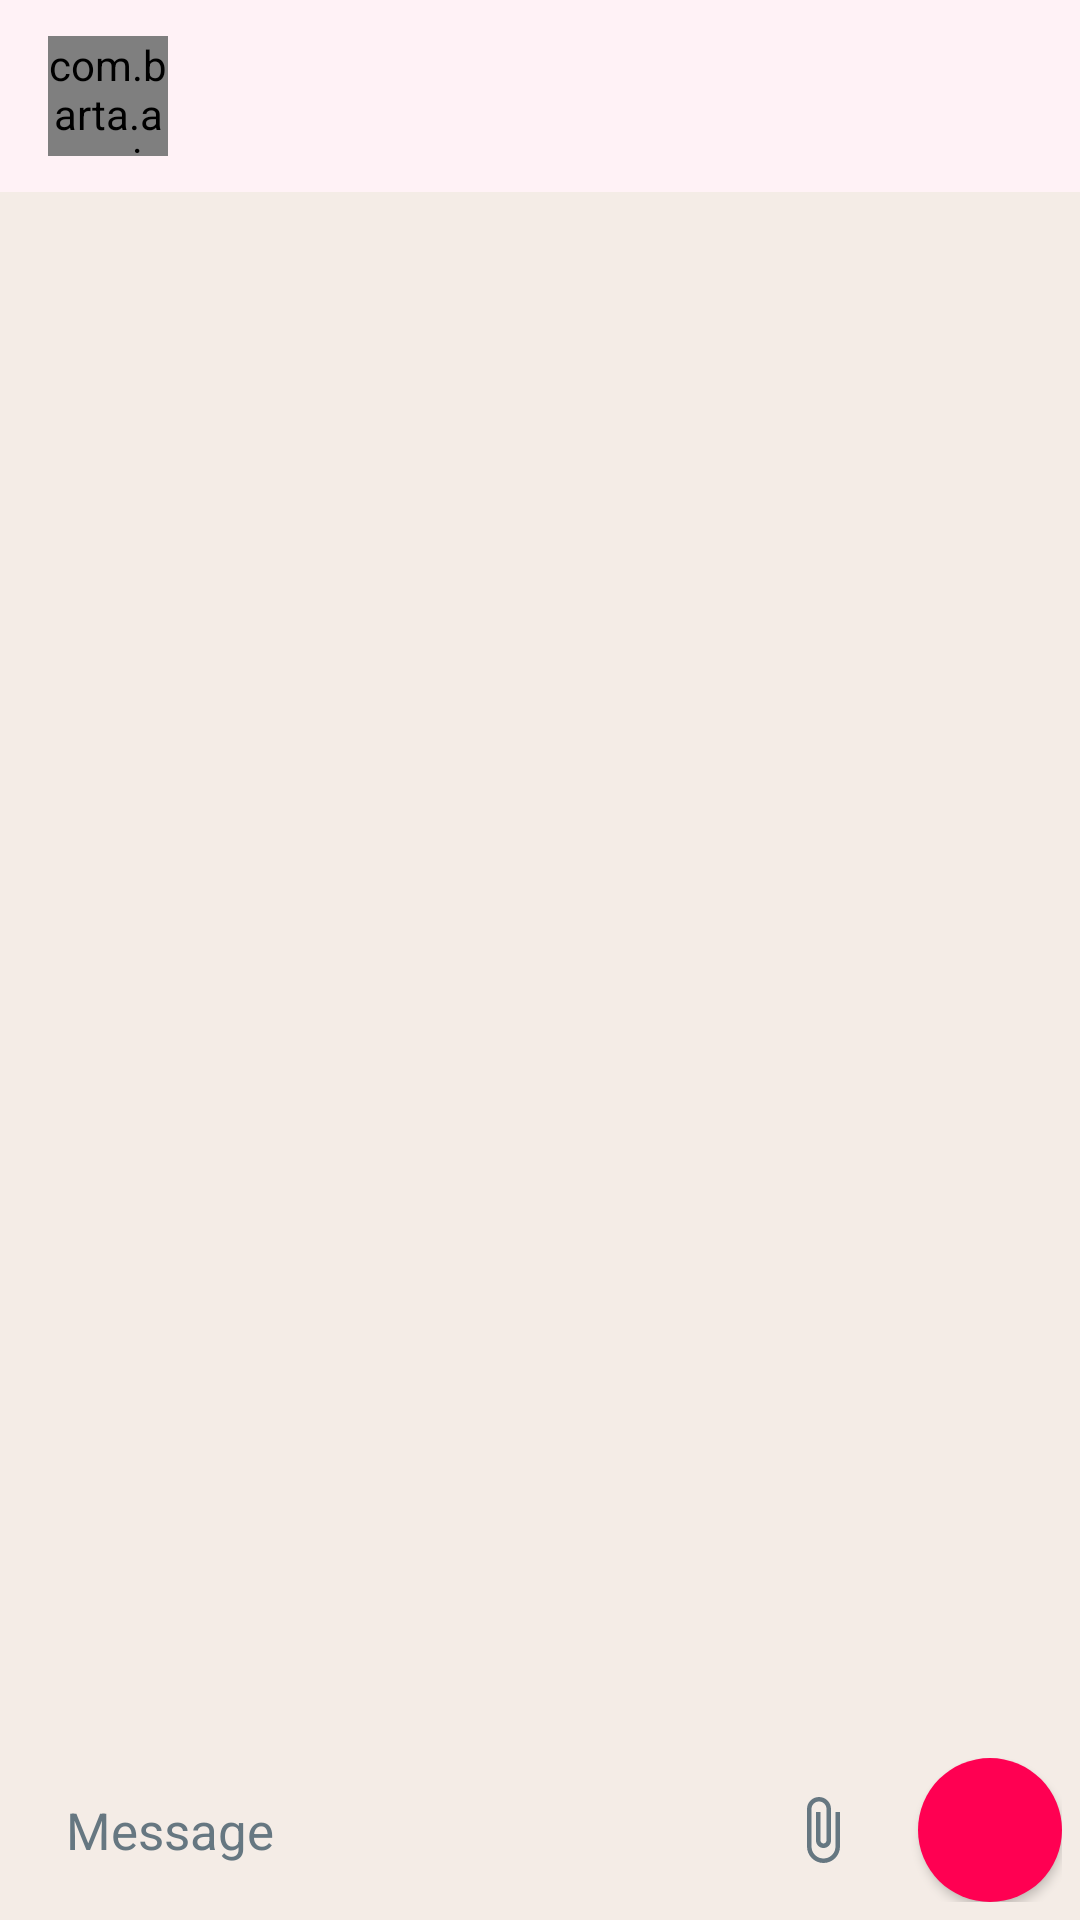

Named icons in this screenshot (1080×1920) and their bounding boxes, rect(x1, y1, x2, y2):
Attach photo or location: rect(807, 1797, 840, 1863)
